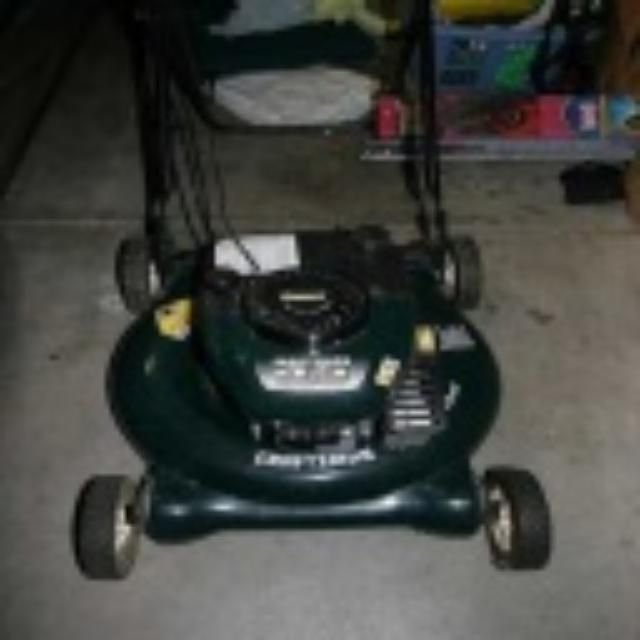Rotary-Mower: (66, 0, 550, 580)
